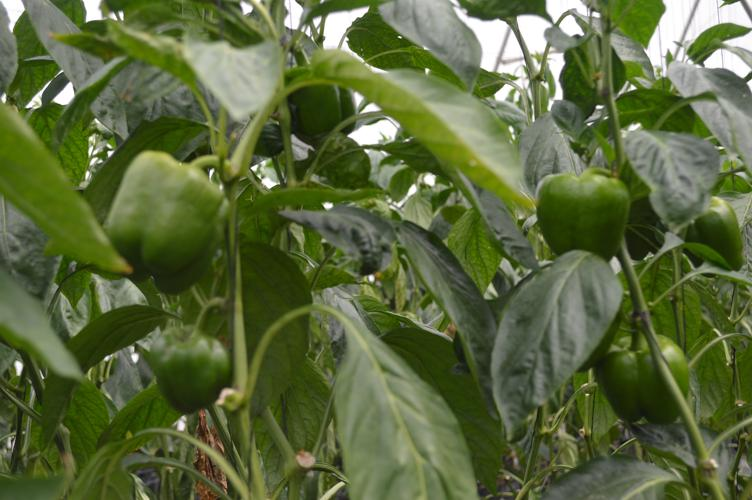BellPepper: (100, 151, 226, 292), (590, 322, 707, 430), (132, 330, 251, 419), (528, 167, 633, 266), (673, 198, 744, 273), (288, 80, 349, 139)
